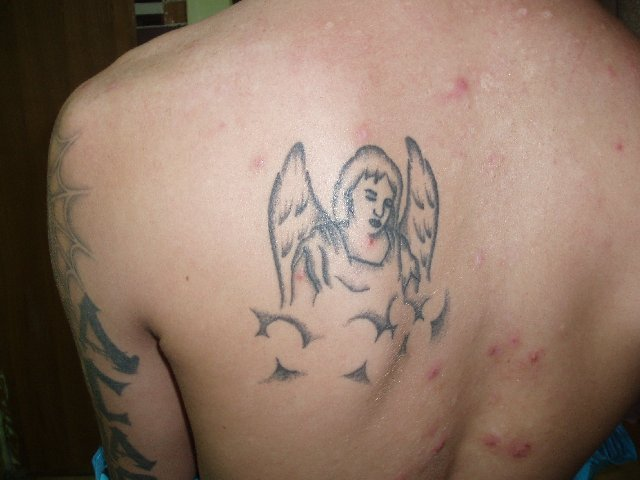tatu1_angel: (226, 138, 462, 390)
